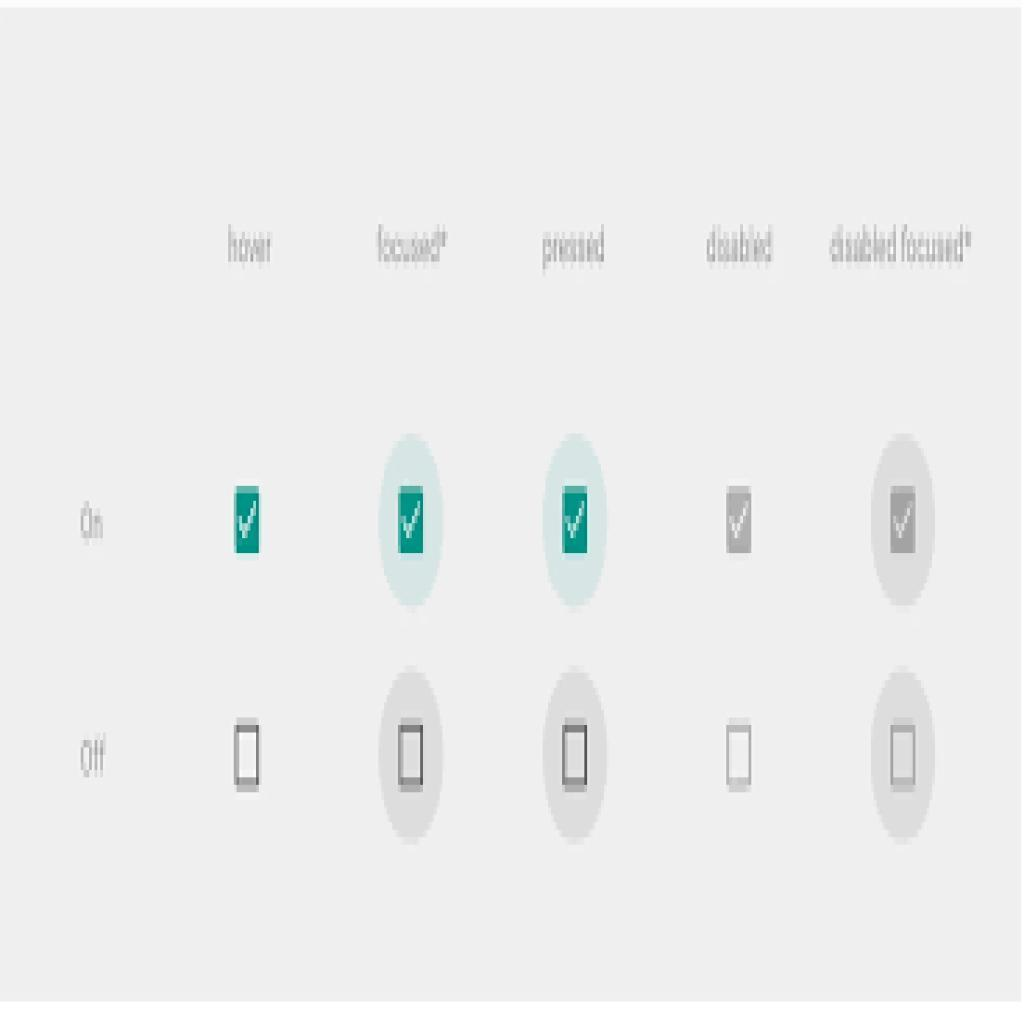checkbox: (724, 489, 752, 557), (234, 489, 263, 554), (398, 724, 426, 791), (399, 486, 425, 555), (564, 490, 590, 558), (234, 726, 260, 788), (727, 725, 752, 789), (893, 491, 918, 555), (892, 726, 917, 789), (563, 726, 588, 788)
